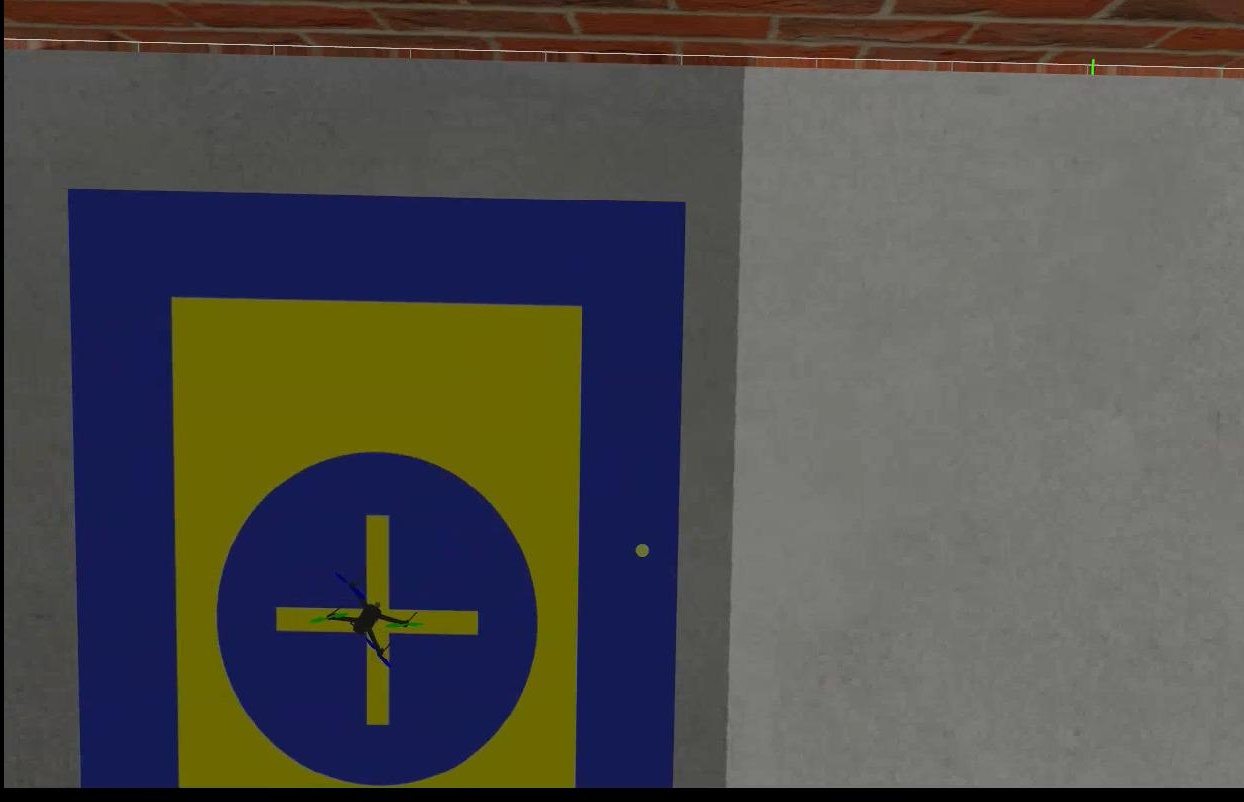large_base: (68, 191, 688, 797)
